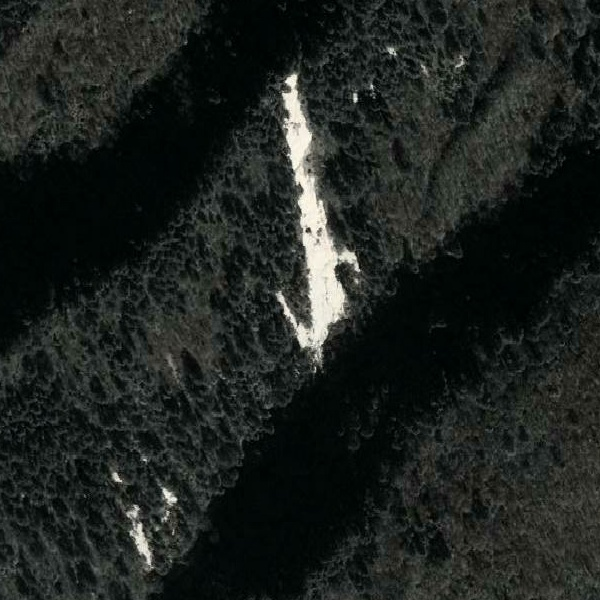slope: (274, 73, 360, 366)
